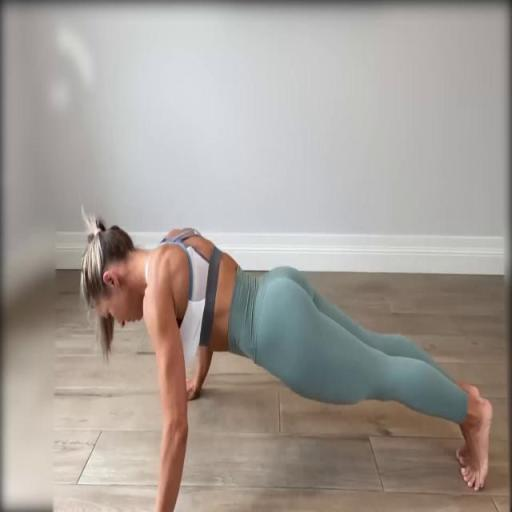Normal_BrenchPress: (79, 207, 494, 507)
